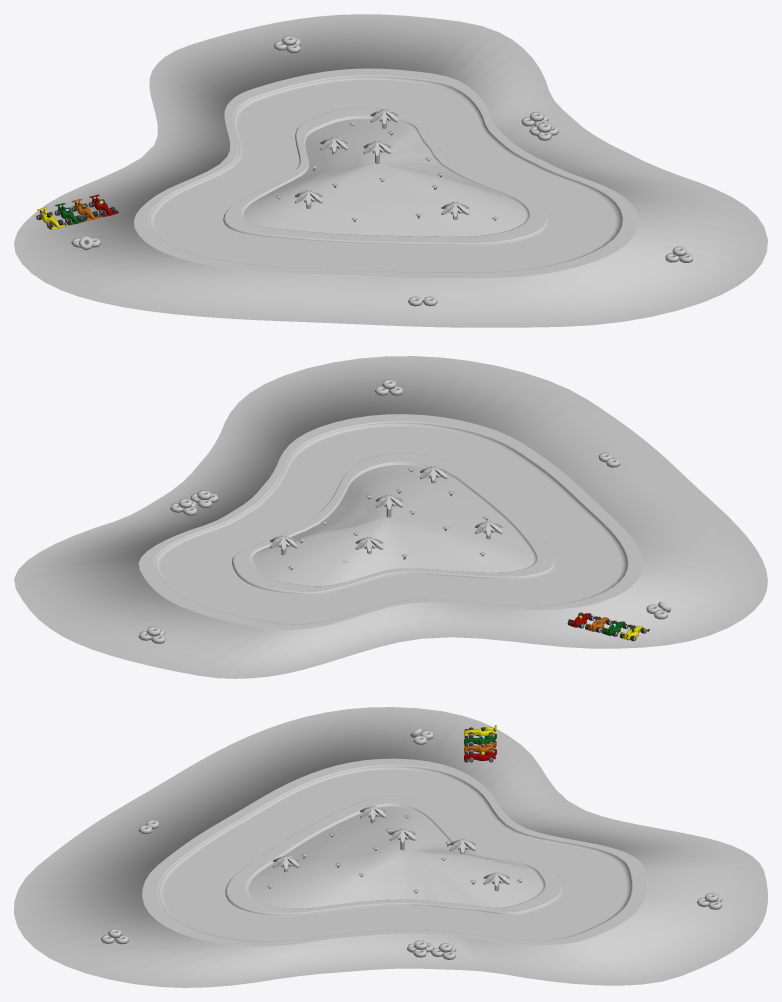
Rendered from Corrida.fbx.
The picture shows the model from 3 angles, top to bottom: view 1: azimuth 30°, elevation 25°; view 2: azimuth 150°, elevation 25°; view 3: azimuth 270°, elevation 25°; orthographic projection. The views are drawn at different scales.
Visible parts, largest first — view 1: Pista; view 2: Pista; view 3: Pista.
Part boxes in pixels (left/top/right/bottom): Pista: left=14, top=14, right=767, bottom=327; Pista: left=14, top=356, right=767, bottom=678; Pista: left=14, top=707, right=767, bottom=987.
Bounding box in the file's own units: 3147 × 209 × 3570.
